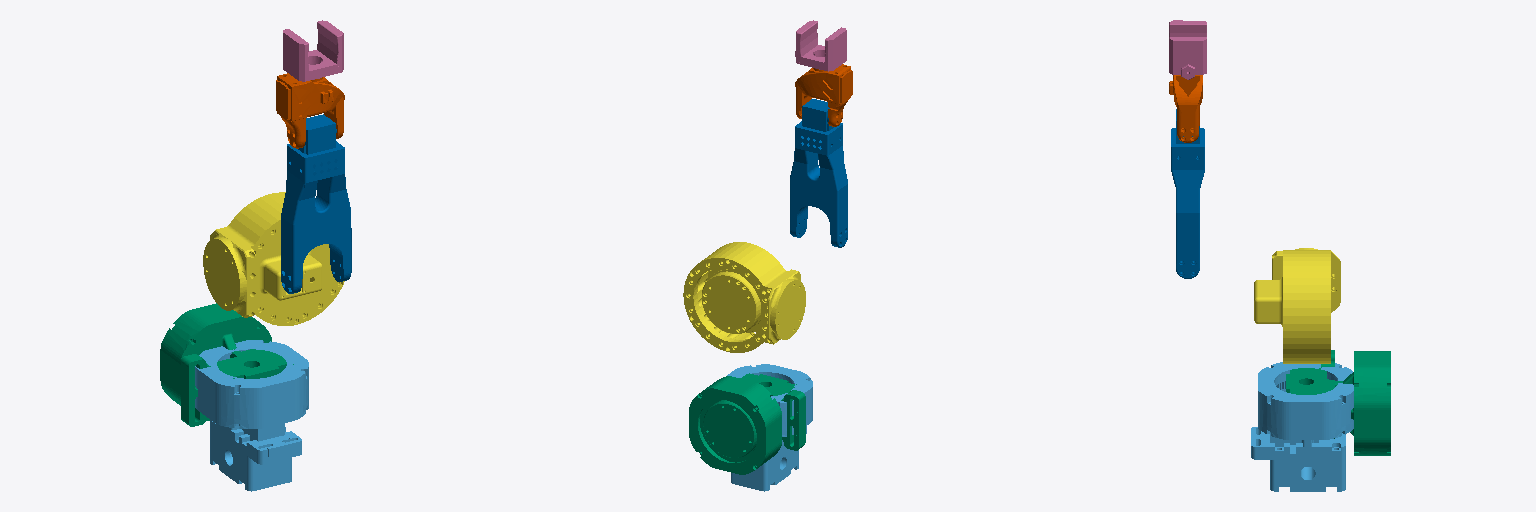
The robot description file, URDF, robot "robot":
<?xml version="1.0" encoding="UTF-8"?>
<robot name="robot">
  <link name="base_link">
    <visual>
      <origin xyz="0 0 0" rpy="0 0 0"/>
      <geometry>
        <mesh filename="../meshes/base_link.stl"/>
      </geometry>
    </visual>
    <collision>
      <origin xyz="0 0 0" rpy="0 0 0"/>
      <geometry>
        <mesh filename="../meshes/base_link.stl"/>
      </geometry>
    </collision>
  </link>
  <link name="Link_1">
    <visual>
      <origin xyz="0 0 0" rpy="0 0 0"/>
      <geometry>
        <mesh filename="../meshes/Link_1.stl"/>
      </geometry>
    </visual>
    <collision>
      <origin xyz="0 0 0" rpy="0 0 0"/>
      <geometry>
        <mesh filename="../meshes/Link_1.stl"/>
      </geometry>
    </collision>
  </link>
  <link name="Link_2">
    <visual>
      <origin xyz="0 0 0" rpy="0 0 0"/>
      <geometry>
        <mesh filename="../meshes/Link_2.stl"/>
      </geometry>
    </visual>
    <collision>
      <origin xyz="0 0 0" rpy="0 0 0"/>
      <geometry>
        <mesh filename="../meshes/Link_2.stl"/>
      </geometry>
    </collision>
  </link>
  <link name="Link_3">
    <visual>
      <origin xyz="0 0 0" rpy="0 0 0"/>
      <geometry>
        <mesh filename="../meshes/Link_3.stl"/>
      </geometry>
    </visual>
    <collision>
      <origin xyz="0 0 0" rpy="0 0 0"/>
      <geometry>
        <mesh filename="../meshes/Link_3.stl"/>
      </geometry>
    </collision>
  </link>
  <link name="Link_4">
    <visual>
      <origin xyz="0 0 0" rpy="0 0 0"/>
      <geometry>
        <mesh filename="../meshes/Link_4.stl"/>
      </geometry>
    </visual>
    <collision>
      <origin xyz="0 0 0" rpy="0 0 0"/>
      <geometry>
        <mesh filename="../meshes/Link_4.stl"/>
      </geometry>
    </collision>
  </link>
  <link name="Link_5">
    <visual>
      <origin xyz="0 0 0" rpy="0 0 0"/>
      <geometry>
        <mesh filename="../meshes/Link_5.stl"/>
      </geometry>
    </visual>
    <collision>
      <origin xyz="0 0 0" rpy="0 0 0"/>
      <geometry>
        <mesh filename="../meshes/Link_5.stl"/>
      </geometry>
    </collision>
  </link>
  <link name="Link_6">
    <visual>
      <origin xyz="0 0 0" rpy="0 0 0"/>
      <geometry>
        <mesh filename="../meshes/Link_6.stl"/>
      </geometry>
    </visual>
    <collision>
      <origin xyz="0 0 0" rpy="0 0 0"/>
      <geometry>
        <mesh filename="../meshes/Link_6.stl"/>
      </geometry>
    </collision>
  </link>
  <joint name="J10" type="prismatic">
    <parent link="base_link"/>
    <child link="Link_1"/>
    <origin xyz="0.13 0.0045 0" rpy="0 -1.57079633 0"/>
    <axis xyz="0 0 -1"/>
    <limit lower="-0.1" upper="0.1" effort="100" velocity="0.1"/>
  </joint>
  <joint name="J11" type="revolute">
    <parent link="Link_1"/>
    <child link="Link_2"/>
    <origin xyz="0.0952507 -0.009787 0.13000505" rpy="0 1.57079633 0"/>
    <axis xyz="0 0 -1"/>
    <limit lower="-3.14159" upper="3.14159" effort="10" velocity="1"/>
  </joint>
  <joint name="J12" type="revolute">
    <parent link="Link_2"/>
    <child link="Link_3"/>
    <origin xyz="-0.030995 3e-8 0.10390639" rpy="1.57079633 0 1.57079633"/>
    <axis xyz="0 0 -1"/>
    <limit lower="-3.14159" upper="3.14159" effort="10" velocity="1"/>
  </joint>
  <joint name="J13" type="revolute">
    <parent link="Link_3"/>
    <child link="Link_4"/>
    <origin xyz="-0.12501147 0.043 -0.002" rpy="3.14159265 0 3.14159265"/>
    <axis xyz="0 0 1"/>
    <limit lower="-3.14159" upper="3.14159" effort="10" velocity="1"/>
  </joint>
  <joint name="J14" type="revolute">
    <parent link="Link_4"/>
    <child link="Link_5"/>
    <origin xyz="-0.00025571 0.1529998 -0.013775" rpy="0 0 0"/>
    <axis xyz="0 0 -1"/>
    <limit lower="-3.14159" upper="3.14159" effort="10" velocity="1"/>
  </joint>
  <joint name="J15" type="revolute">
    <parent link="Link_5"/>
    <child link="Link_6"/>
    <origin xyz="-0.00014171 0.07712488 -0.015925" rpy="-1.57079633 0 -3.13943131"/>
    <axis xyz="0 0 1"/>
    <limit lower="-3.14159" upper="3.14159" effort="10" velocity="1"/>
  </joint>
</robot>

--- Facts derived from the render (not from the file) ---
3 views of the same robot in one strip: view 1: azimuth 30°, elevation 25°; view 2: azimuth 150°, elevation 25°; view 3: azimuth 270°, elevation 25° (orthographic).
Model robot with 7 links and 6 joints (5 revolute, 1 prismatic), rooted at base_link, posed all joints at 0.
Links seen in each view (by area): view 1: Link_1, Link_3, Link_4, Link_2, Link_5, Link_6; view 2: Link_3, Link_2, Link_4, Link_1, Link_5, Link_6; view 3: Link_1, Link_3, Link_2, Link_4, Link_6, Link_5.
Boxes of the visible links, x1,y1,x2,y2 form: Link_1: (195,340,308,491); Link_3: (203,192,344,325); Link_4: (281,114,351,293); Link_2: (160,303,293,426); Link_5: (276,73,344,148); Link_6: (283,20,343,81); Link_3: (683,242,805,352); Link_2: (689,373,805,474); Link_4: (790,99,847,247); Link_1: (727,364,812,491); Link_5: (795,64,852,126); Link_6: (795,20,846,71); Link_1: (1251,362,1353,491); Link_3: (1254,248,1340,363); Link_2: (1286,350,1390,455); Link_4: (1171,109,1204,278); Link_6: (1169,20,1206,79); Link_5: (1169,75,1202,142).
Size in the robot's own frame: 0.1585 by 0.2337 by 0.5233 metres.
6 mesh visuals loaded from 7 distinct referenced files (6 binary STL); not drawn: 1 (reference not matched to a file when rendering).
